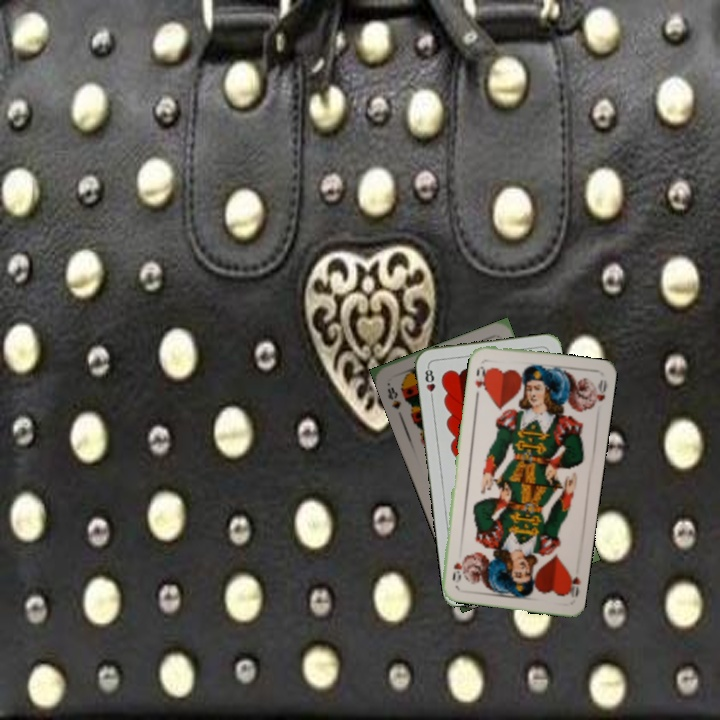H8: (421, 362, 438, 403)
HO: (562, 565, 584, 600), (471, 362, 491, 393)
S8: (383, 383, 404, 412)
